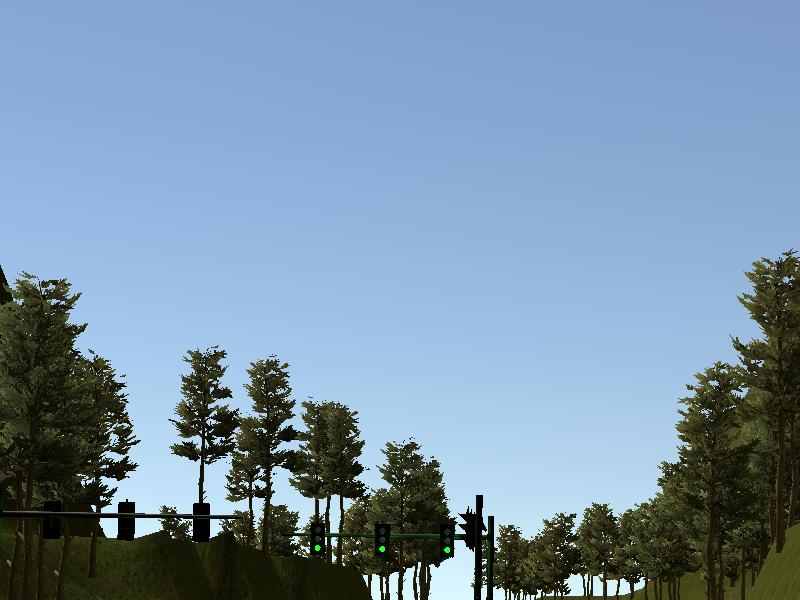Green: (310, 520, 325, 555), (374, 522, 389, 557), (439, 521, 454, 556)
